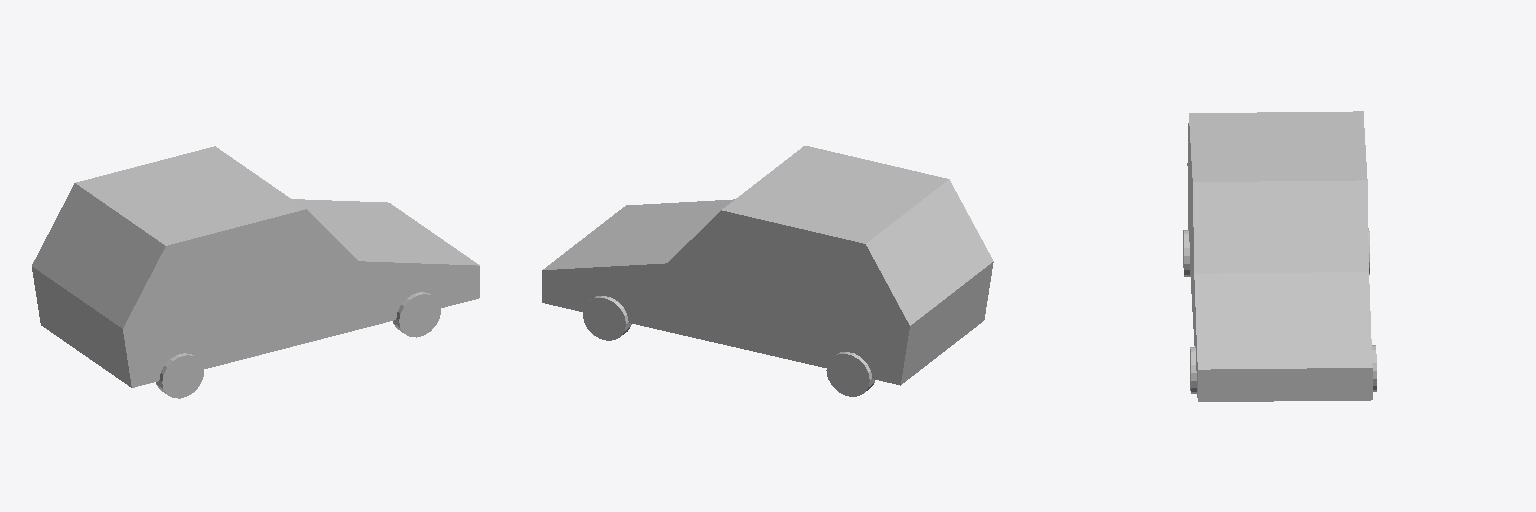
File: car_3.obj
The picture shows the model from 3 angles: view 1: azimuth 30°, elevation 25°; view 2: azimuth 150°, elevation 25°; view 3: azimuth 270°, elevation 25°; orthographic projection.
Visible parts, largest first — view 1: CAR_03; view 2: CAR_03; view 3: CAR_03.
Boxes of the visible parts, box(x1,y1,x2,y2) form: CAR_03: box(32, 146, 479, 398); CAR_03: box(542, 146, 993, 396); CAR_03: box(1183, 111, 1376, 401).
Bounding box in the file's own units: 1.84 × 0.7408 × 0.8439.